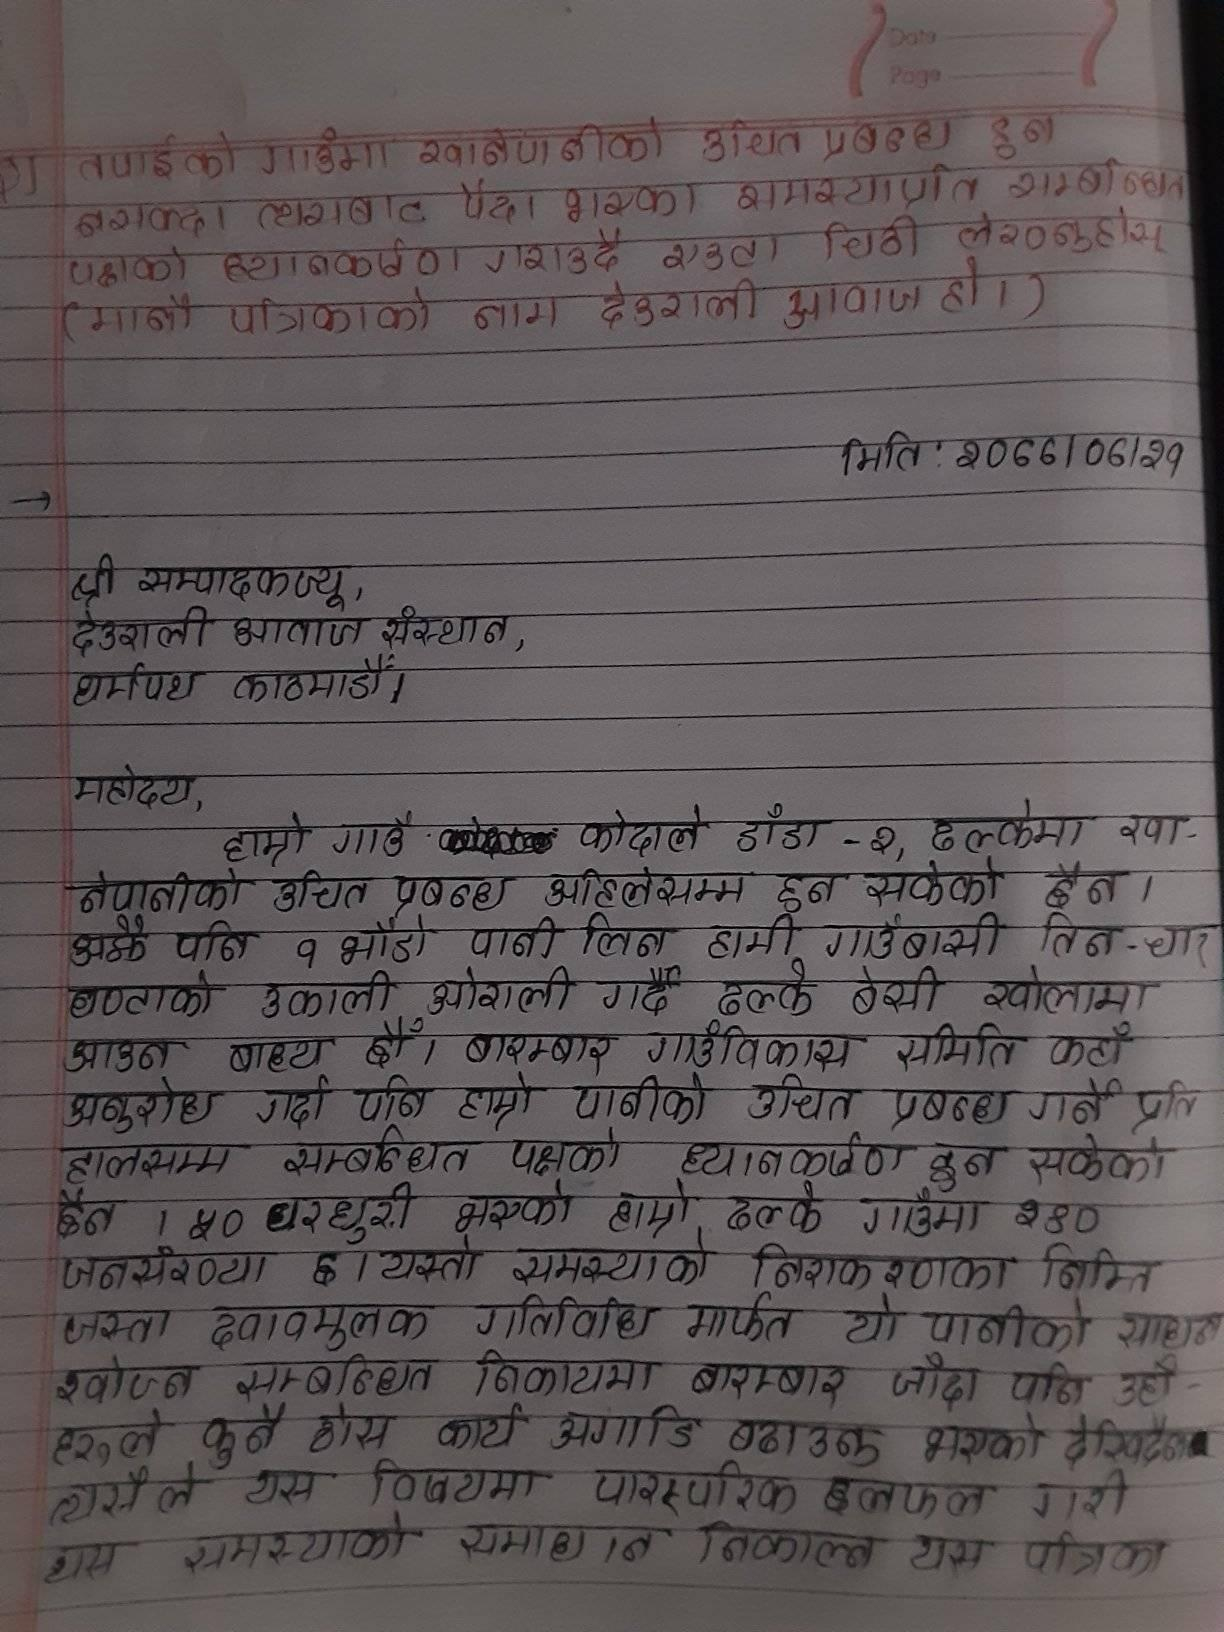text: (744, 1237, 1020, 1297), (177, 1512, 417, 1579), (204, 1293, 438, 1353), (417, 113, 666, 170), (953, 428, 1188, 483), (580, 1459, 800, 1518), (694, 1512, 888, 1579), (138, 558, 355, 616), (681, 1124, 906, 1180), (642, 1022, 869, 1076), (507, 1230, 714, 1288), (732, 163, 981, 211), (954, 204, 1173, 258), (51, 1246, 284, 1297), (454, 1518, 670, 1570), (222, 238, 468, 284), (359, 1453, 557, 1509), (228, 1353, 438, 1405), (463, 1347, 662, 1401), (44, 1465, 207, 1530), (226, 288, 437, 338), (282, 1124, 482, 1177), (262, 1181, 422, 1246), (819, 909, 1007, 964), (927, 795, 1092, 858), (541, 864, 757, 911), (981, 966, 1164, 1022), (469, 1291, 663, 1343), (921, 1298, 1095, 1354), (1002, 158, 1191, 209), (818, 1471, 1002, 1524), (58, 1136, 255, 1185), (1018, 1528, 1171, 1588), (66, 1076, 221, 1133), (685, 1354, 851, 1408), (724, 1414, 882, 1470), (71, 867, 255, 915), (1022, 1130, 1173, 1187), (68, 601, 217, 659), (860, 853, 1009, 911), (73, 132, 239, 184), (780, 278, 923, 337), (426, 961, 581, 1015), (597, 278, 764, 328), (66, 970, 228, 1022), (51, 1354, 202, 1408), (571, 1072, 717, 1127), (1036, 1237, 1167, 1299), (252, 189, 435, 233), (456, 1025, 620, 1074), (576, 804, 710, 862), (546, 1405, 705, 1453), (892, 1022, 1029, 1078), (877, 1081, 1020, 1135), (482, 226, 629, 278), (451, 1178, 577, 1237), (1054, 1414, 1192, 1468), (681, 1288, 804, 1347), (72, 197, 231, 242), (258, 968, 396, 1019), (383, 867, 516, 920), (814, 116, 957, 164), (849, 1191, 984, 1243), (260, 129, 397, 179), (50, 1408, 168, 1466), (923, 1412, 1047, 1468), (748, 1072, 864, 1130), (507, 1123, 627, 1178), (197, 1398, 292, 1468), (230, 608, 366, 655), (69, 763, 195, 815), (554, 181, 705, 224), (1023, 1468, 1134, 1524), (66, 239, 192, 288), (725, 1178, 828, 1237), (58, 1031, 188, 1077), (382, 605, 508, 653), (377, 1234, 487, 1288), (888, 1354, 987, 1414), (57, 1303, 177, 1351), (816, 213, 927, 265), (715, 962, 815, 1019), (604, 1177, 696, 1237), (1047, 1018, 1142, 1076), (339, 915, 437, 970), (657, 235, 788, 276), (1036, 858, 1133, 914), (589, 965, 685, 1020), (847, 962, 944, 1018), (456, 1070, 546, 1130), (219, 1032, 339, 1076), (87, 293, 204, 338), (735, 801, 831, 856), (37, 1538, 141, 1588), (1026, 1074, 1122, 1128), (698, 116, 807, 163), (1112, 1307, 1224, 1353), (271, 869, 375, 918), (580, 910, 676, 962), (435, 1401, 530, 1453), (837, 425, 927, 481), (69, 915, 154, 973), (224, 810, 311, 865), (307, 1401, 395, 1456), (1003, 1360, 1092, 1414), (1031, 909, 1124, 960), (465, 915, 564, 962), (707, 911, 801, 961), (453, 175, 543, 226), (172, 916, 262, 968), (348, 1069, 432, 1124), (327, 810, 411, 864), (1008, 1196, 1107, 1243), (924, 1137, 1007, 1193), (906, 1528, 993, 1581), (252, 1074, 333, 1130), (48, 1185, 126, 1240), (984, 107, 1059, 163), (1140, 918, 1219, 971), (242, 1466, 341, 1509), (1131, 1076, 1202, 1133), (1111, 1354, 1182, 1412), (765, 867, 850, 914), (841, 1291, 909, 1347), (471, 293, 564, 333), (361, 1018, 427, 1070), (1117, 807, 1189, 852), (183, 1199, 246, 1248), (939, 256, 986, 317), (71, 553, 118, 605), (309, 1245, 343, 1289), (291, 933, 325, 973), (867, 819, 897, 862)
